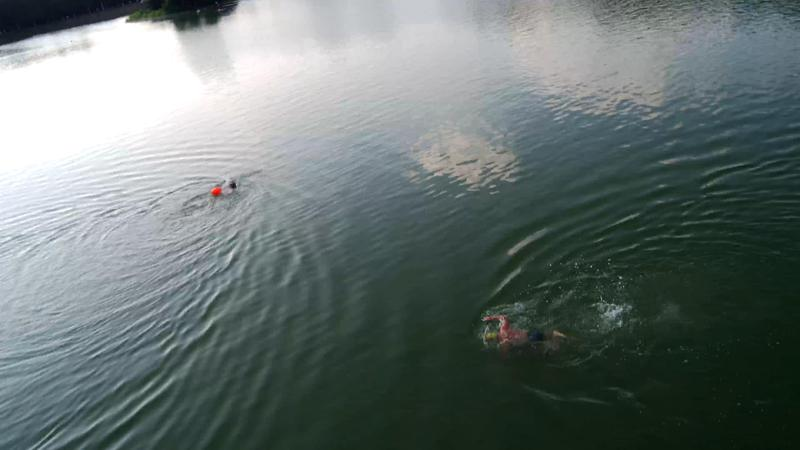swimmers: (477, 312, 569, 353)
